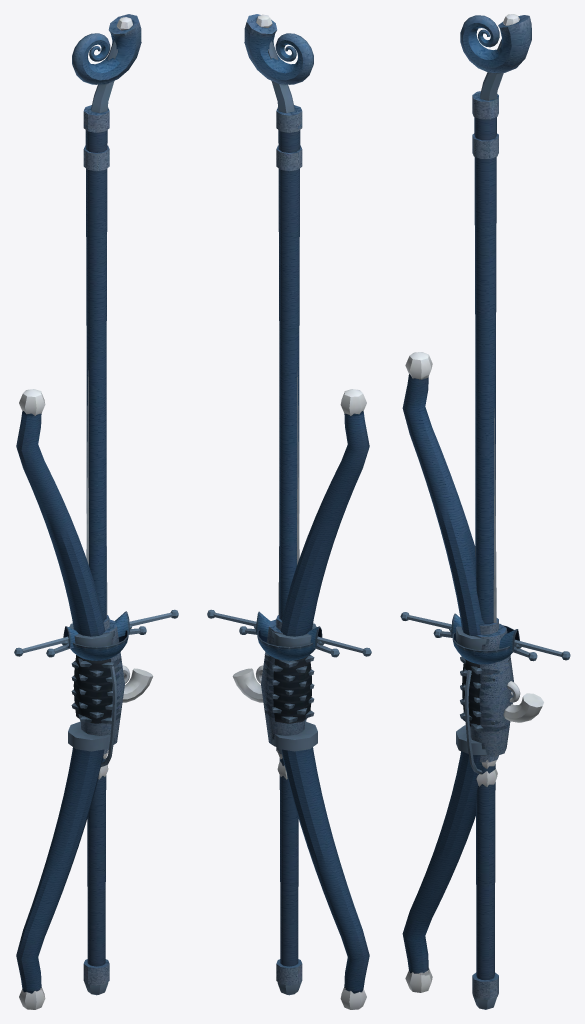
File: weapons_abyssal.glb
The picture shows the model from 3 angles, left to right: view 1: azimuth 30°, elevation 25°; view 2: azimuth 150°, elevation 25°; view 3: azimuth 330°, elevation 25°; orthographic projection. The views are drawn at different scales.
Visible parts, largest first — view 1: bow, staff, blade, spellblade; view 2: bow, staff, blade, spellblade; view 3: staff, bow, blade, spellblade.
Part boxes in pixels (x1,y1,x2,y2): bow: [16, 389, 153, 1009]; staff: [72, 14, 141, 995]; blade: [14, 609, 178, 779]; spellblade: [46, 370, 146, 759]; bow: [232, 389, 369, 1009]; staff: [244, 14, 313, 995]; blade: [207, 609, 371, 779]; spellblade: [239, 370, 339, 759]; staff: [460, 14, 531, 1009]; bow: [402, 352, 543, 992]; blade: [400, 612, 570, 786]; spellblade: [433, 408, 537, 768].
Bounding box in the file's own units: 0.3571 × 2.03 × 0.1342.
Materials: 5 (5 with a texture image).
